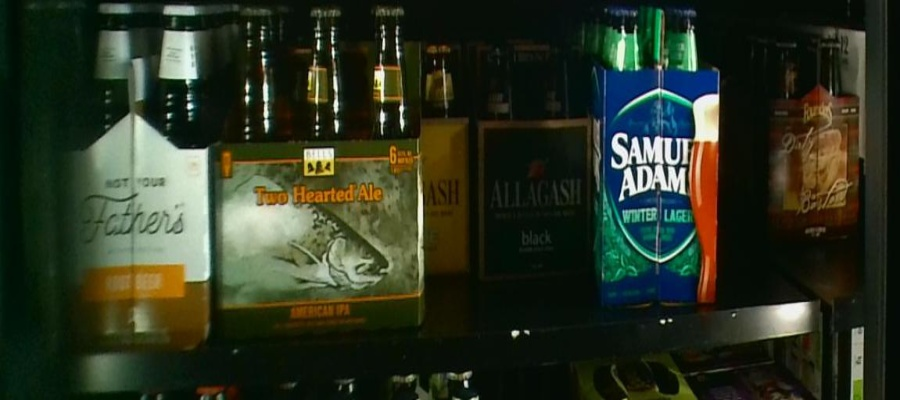bottle: (219, 3, 425, 334), (74, 1, 212, 350), (600, 6, 717, 310), (475, 35, 596, 281), (425, 36, 475, 280)
